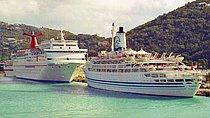Ship: (81, 24, 204, 100), (9, 25, 92, 86)
